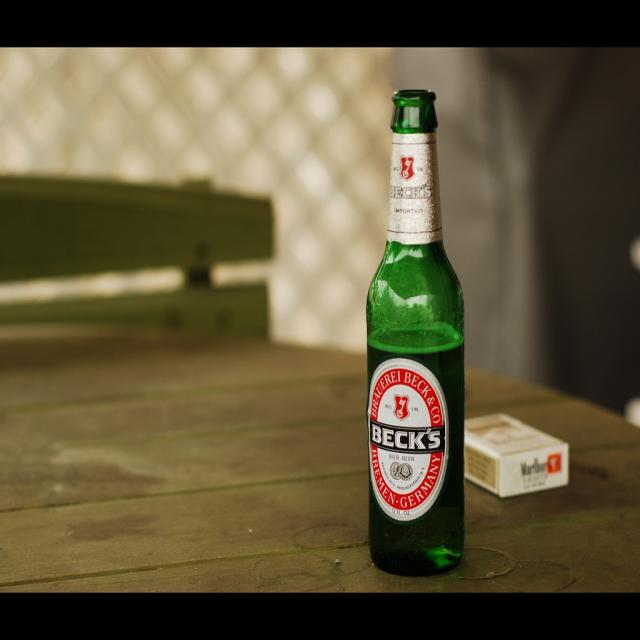becks: (369, 358, 451, 522)
